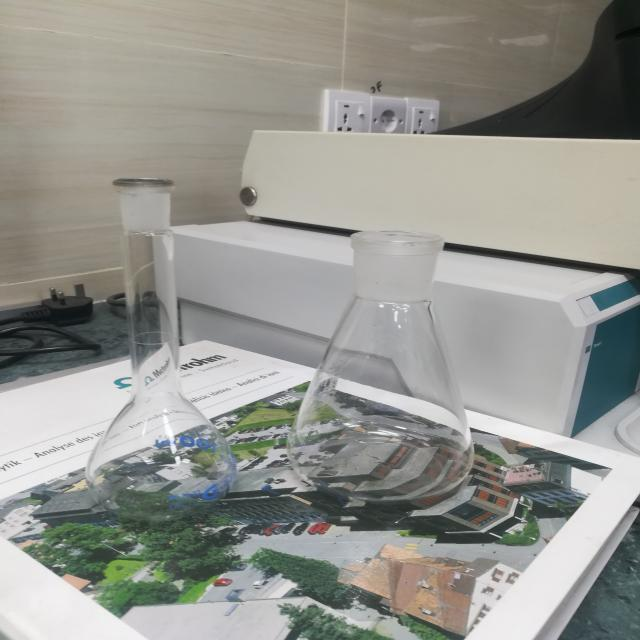Conical_Flask: (274, 198, 514, 522)
Volumetric_Flask: (56, 146, 265, 544)
